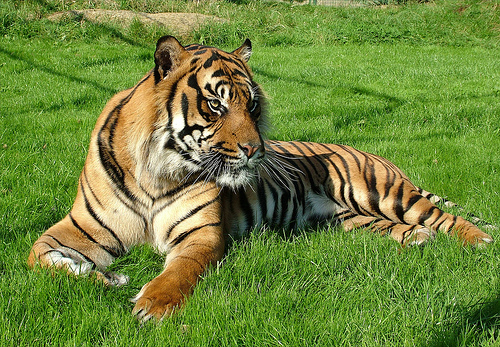Tigre: (40, 40, 493, 312)
